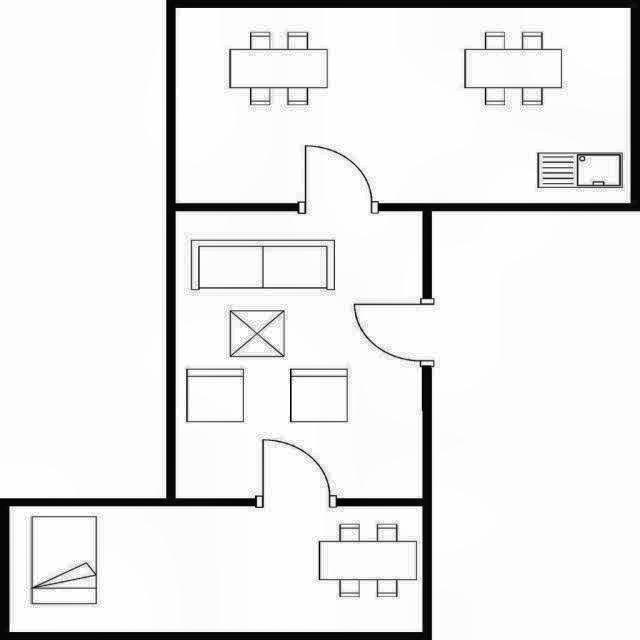room: (176, 8, 631, 203), (175, 211, 422, 498), (9, 506, 423, 632)
